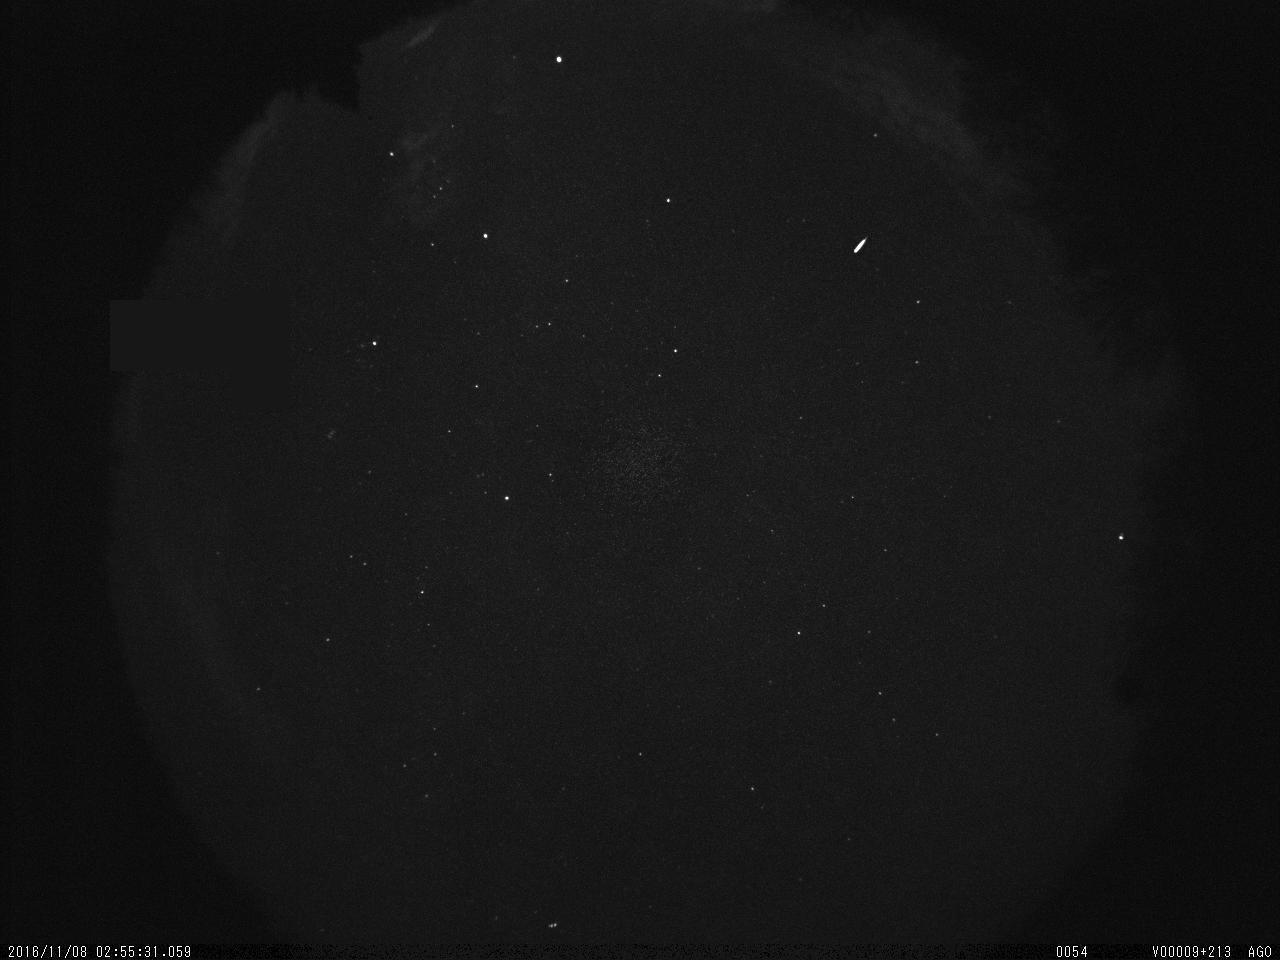Meteor: (846, 229, 870, 261)
